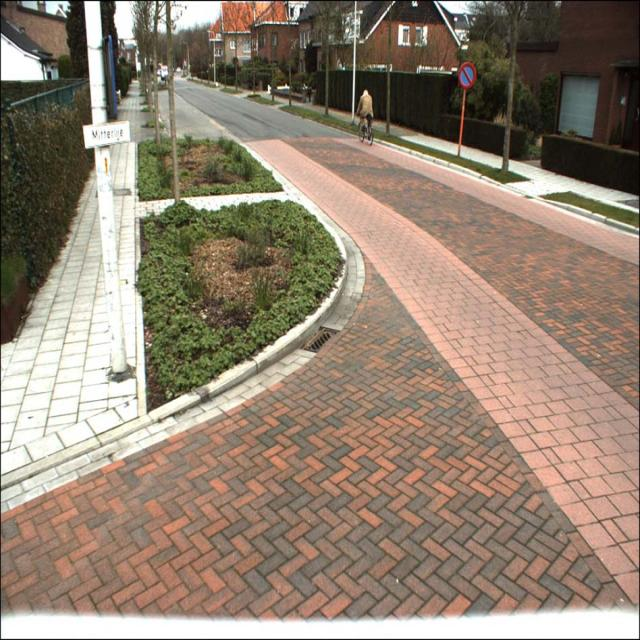parkyasak: (458, 61, 476, 88)
